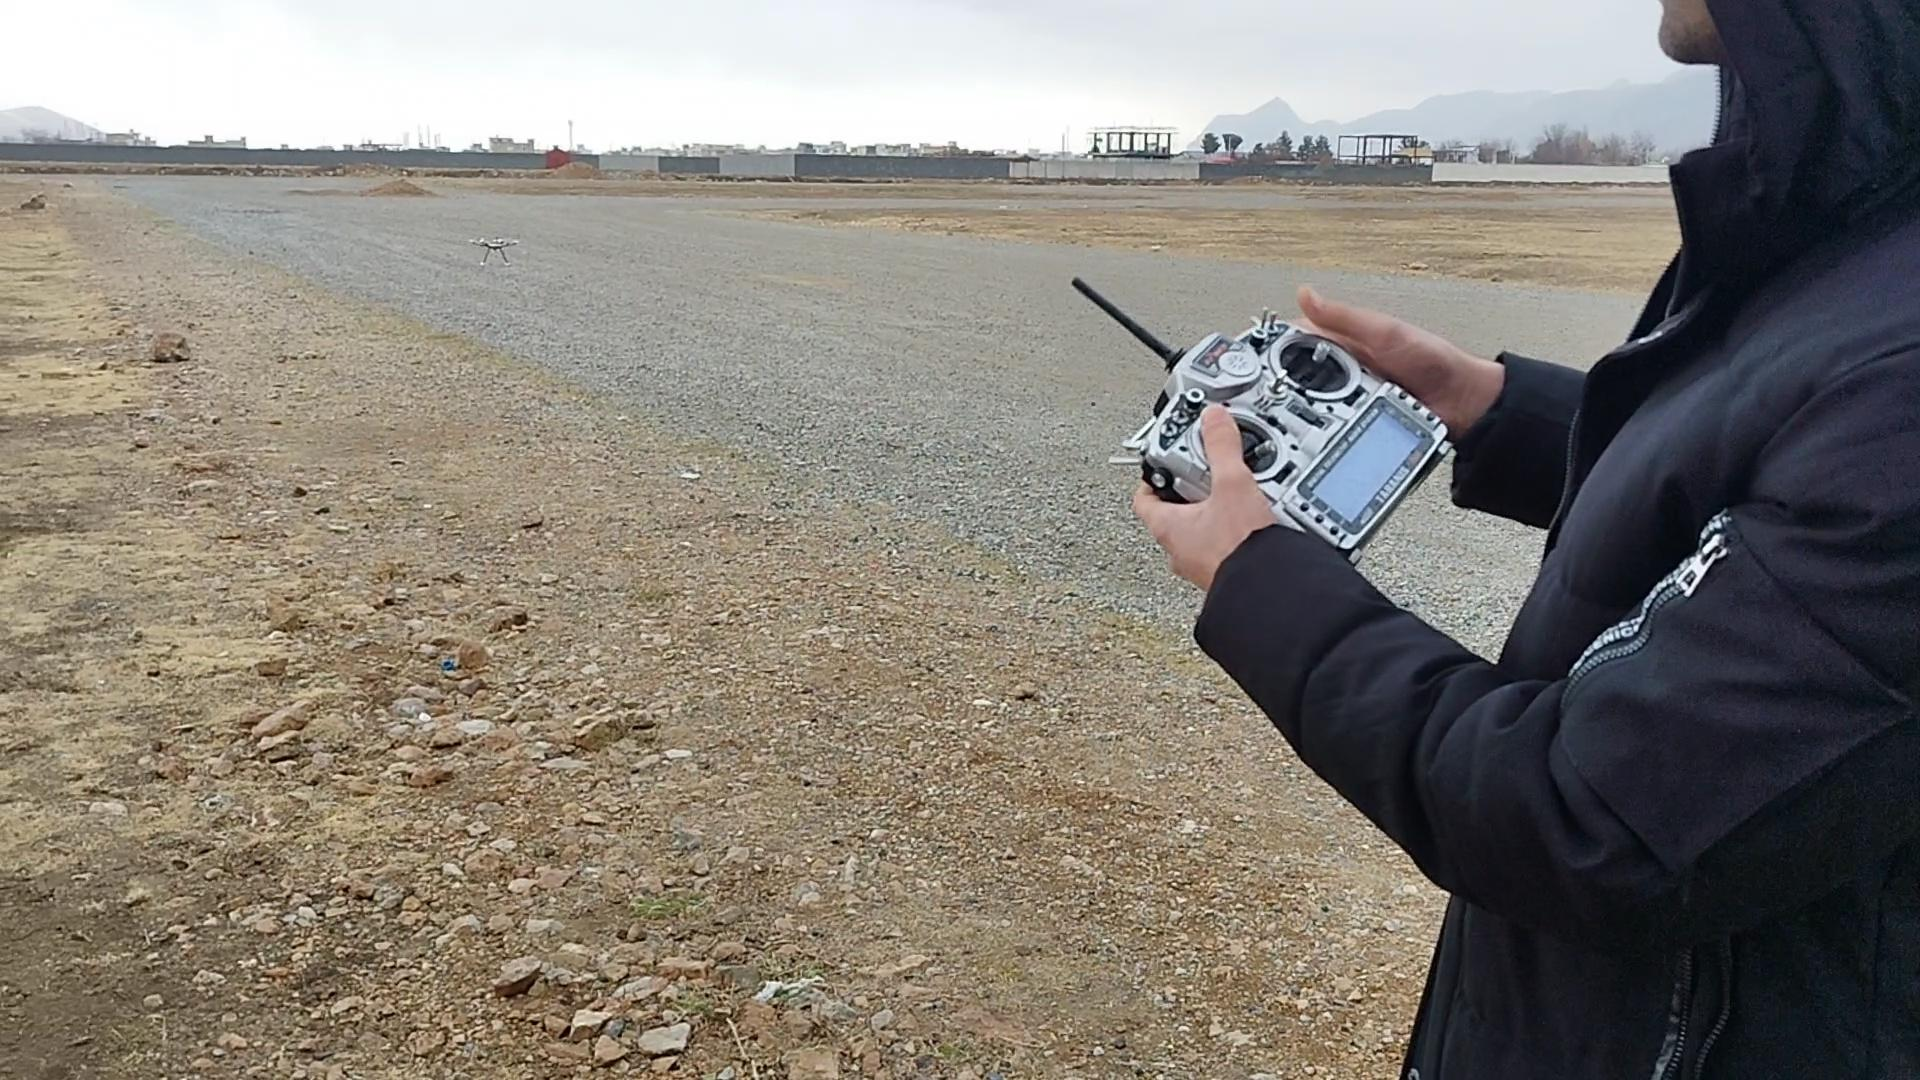drone: (467, 231, 524, 266)
